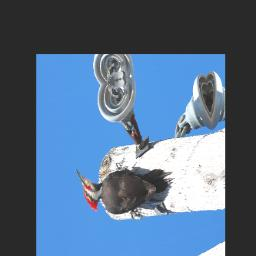Woodpecker: (74, 136, 178, 240)
